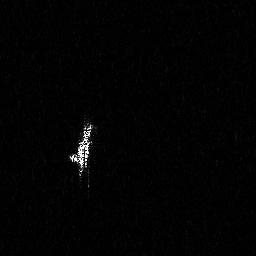ship: (65, 118, 94, 189)
